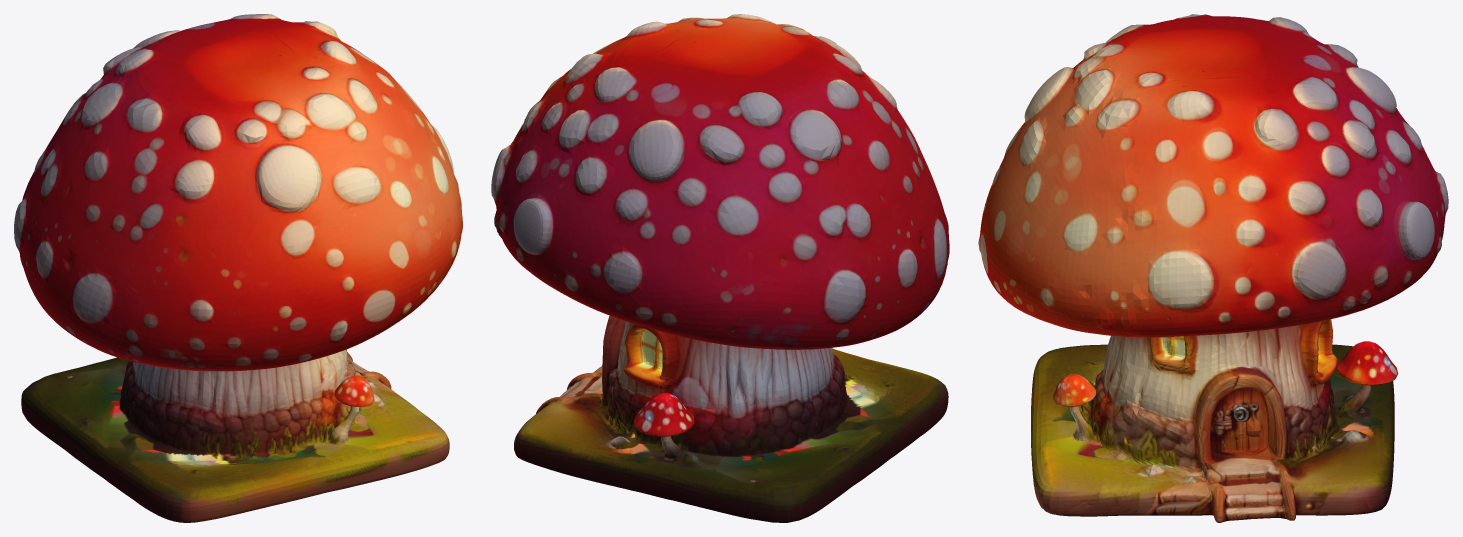
Rendered from Mushroom-house.glb.
3 views of the same model, side by side, from view 1: azimuth 30°, elevation 25°; view 2: azimuth 150°, elevation 25°; view 3: azimuth 270°, elevation 25° (orthographic). The views are drawn at different scales.
Parts seen in each view (by area): view 1: tripo_node_ffba6071-dfd3-48dc-828f-7ec4d9b7e1b1; view 2: tripo_node_ffba6071-dfd3-48dc-828f-7ec4d9b7e1b1; view 3: tripo_node_ffba6071-dfd3-48dc-828f-7ec4d9b7e1b1.
Boxes of the visible parts, box(x1,y1,x2,y2) form: tripo_node_ffba6071-dfd3-48dc-828f-7ec4d9b7e1b1: box(14, 14, 462, 522); tripo_node_ffba6071-dfd3-48dc-828f-7ec4d9b7e1b1: box(491, 14, 949, 522); tripo_node_ffba6071-dfd3-48dc-828f-7ec4d9b7e1b1: box(978, 14, 1448, 522).
Bounding box in the file's own units: 0.9987 × 0.9314 × 0.9967.
Materials: 1 (1 with a texture image).
